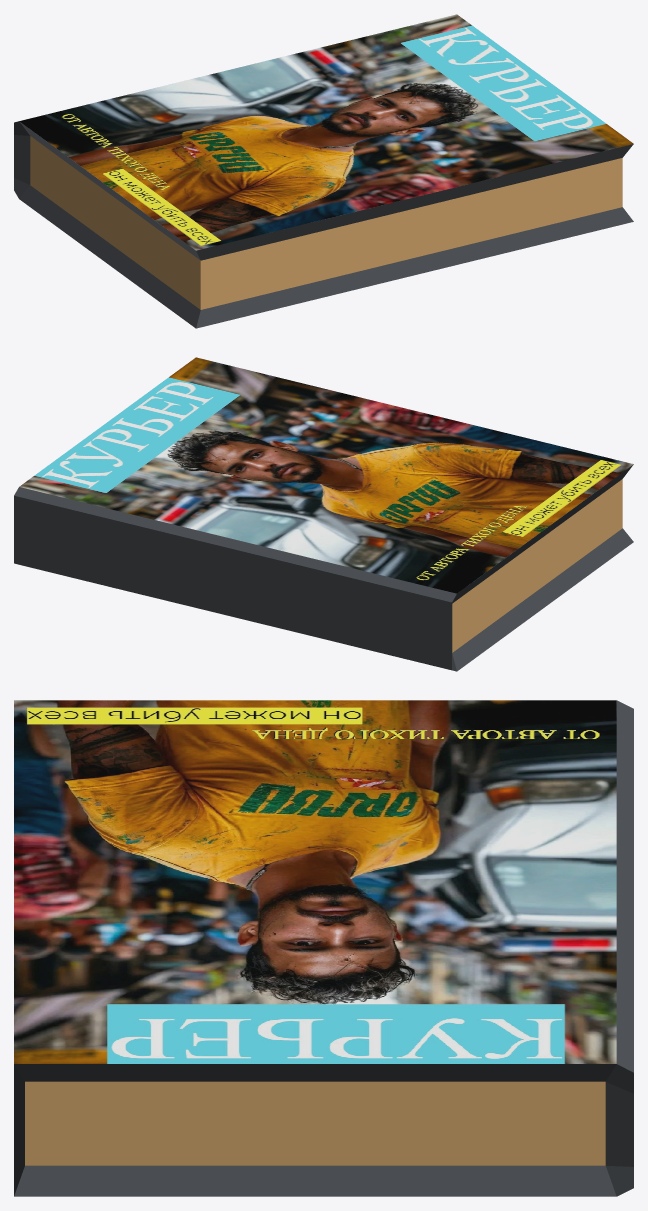
File: Book1.fbx
3 views of the same model, one above another, from view 1: azimuth 30°, elevation 25°; view 2: azimuth 150°, elevation 25°; view 3: azimuth 270°, elevation 25° (orthographic). The views are drawn at different scales.
Parts seen in each view (by area): view 1: Cube.022; view 2: Cube.022; view 3: Cube.022.
Boxes of the visible parts, x1,y1,x2,y2 form: Cube.022: (14, 14, 633, 328); Cube.022: (14, 357, 633, 671); Cube.022: (14, 700, 633, 1196).
Size of the model in its own units: 30.78 by 5.23 by 22.16.
